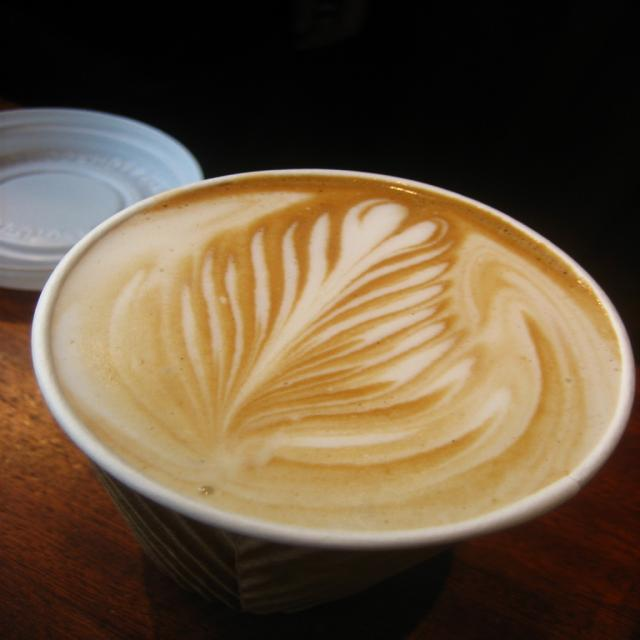latte: (30, 169, 636, 541)
